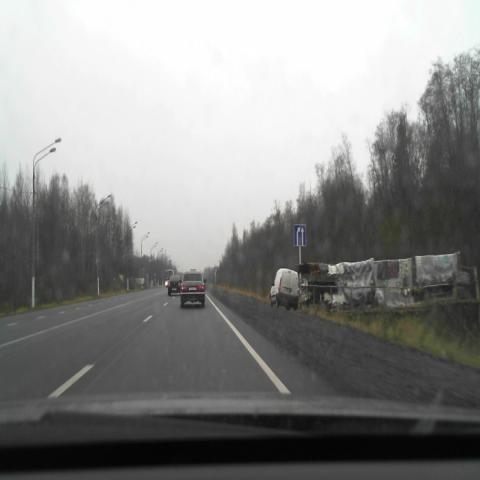5_15_5: (294, 224, 306, 246)
